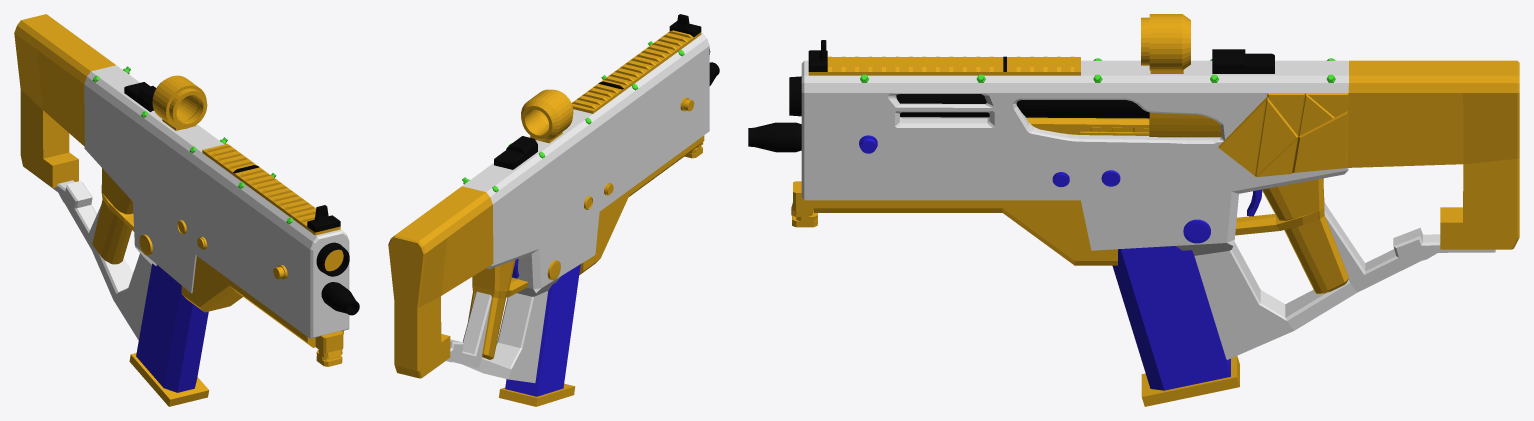
The model's file is christmas-bullpup-palette.glb.
3 views of the same model, side by side, from view 1: azimuth 30°, elevation 25°; view 2: azimuth 150°, elevation 25°; view 3: azimuth 270°, elevation 25° (orthographic). The views are drawn at different scales.
Parts seen in each view (by area): view 1: Cube; view 2: Cube; view 3: Cube.
Part boxes in pixels (left/top/right/bottom): Cube: left=14, top=14, right=359, bottom=406; Cube: left=388, top=14, right=719, bottom=406; Cube: left=748, top=14, right=1519, bottom=406.
Bounding box in the file's own units: 0.5085 × 2.87 × 5.29.
